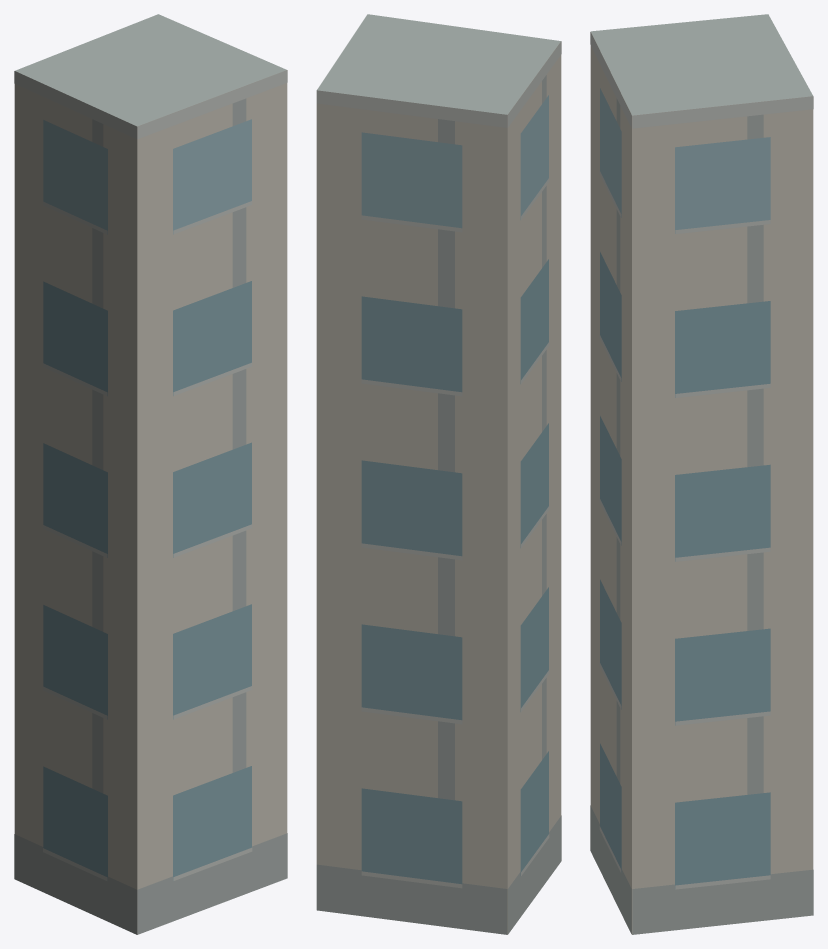
File: survey-upis-32641663.glb
The picture shows the model from 3 angles, left to right: view 1: azimuth 30°, elevation 25°; view 2: azimuth 150°, elevation 25°; view 3: azimuth 270°, elevation 25°; orthographic projection.
Parts seen in each view (by area): view 1: survey-upis-32641663.tmp; view 2: survey-upis-32641663.tmp; view 3: survey-upis-32641663.tmp.
Boxes of the visible parts, x1,y1,x2,y2 form: survey-upis-32641663.tmp: (14, 14, 287, 934); survey-upis-32641663.tmp: (316, 14, 561, 934); survey-upis-32641663.tmp: (590, 14, 813, 934).
Size of the model in its own units: 4.07 by 15.25 by 3.77.
